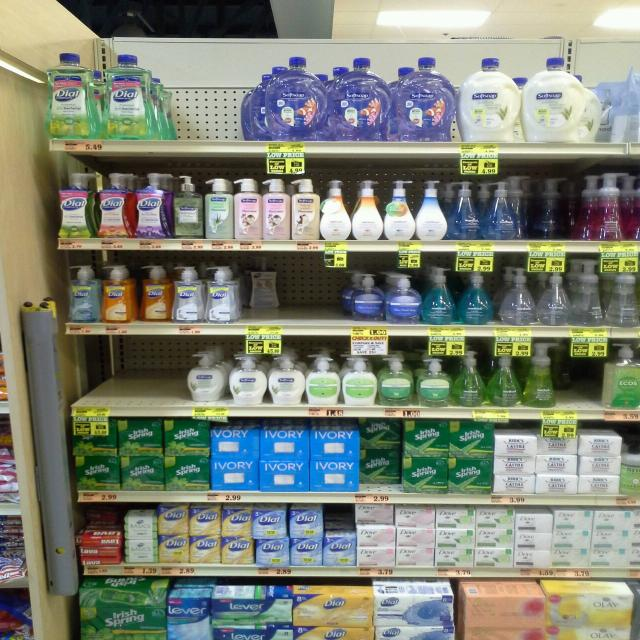void: (164, 55, 260, 135), (101, 338, 181, 401), (286, 255, 342, 320), (566, 340, 598, 408)
